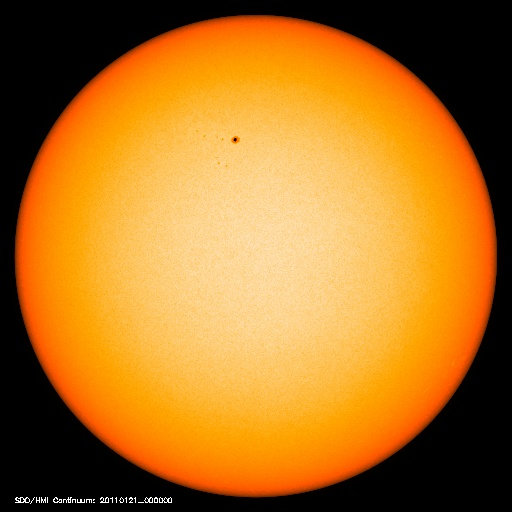sunspot: (186, 122, 246, 172)
